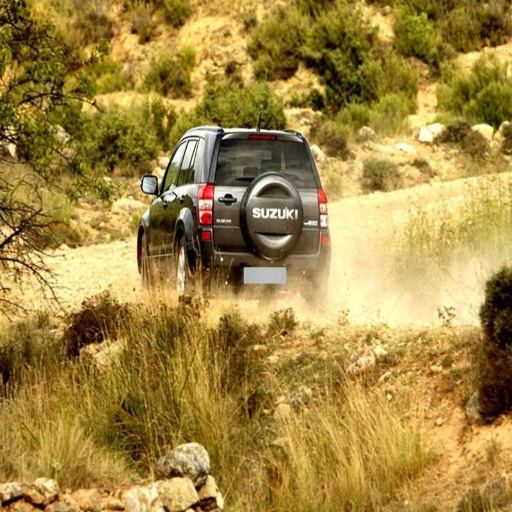tailgate: (262, 202, 303, 252)
trunk: (183, 172, 318, 279)
